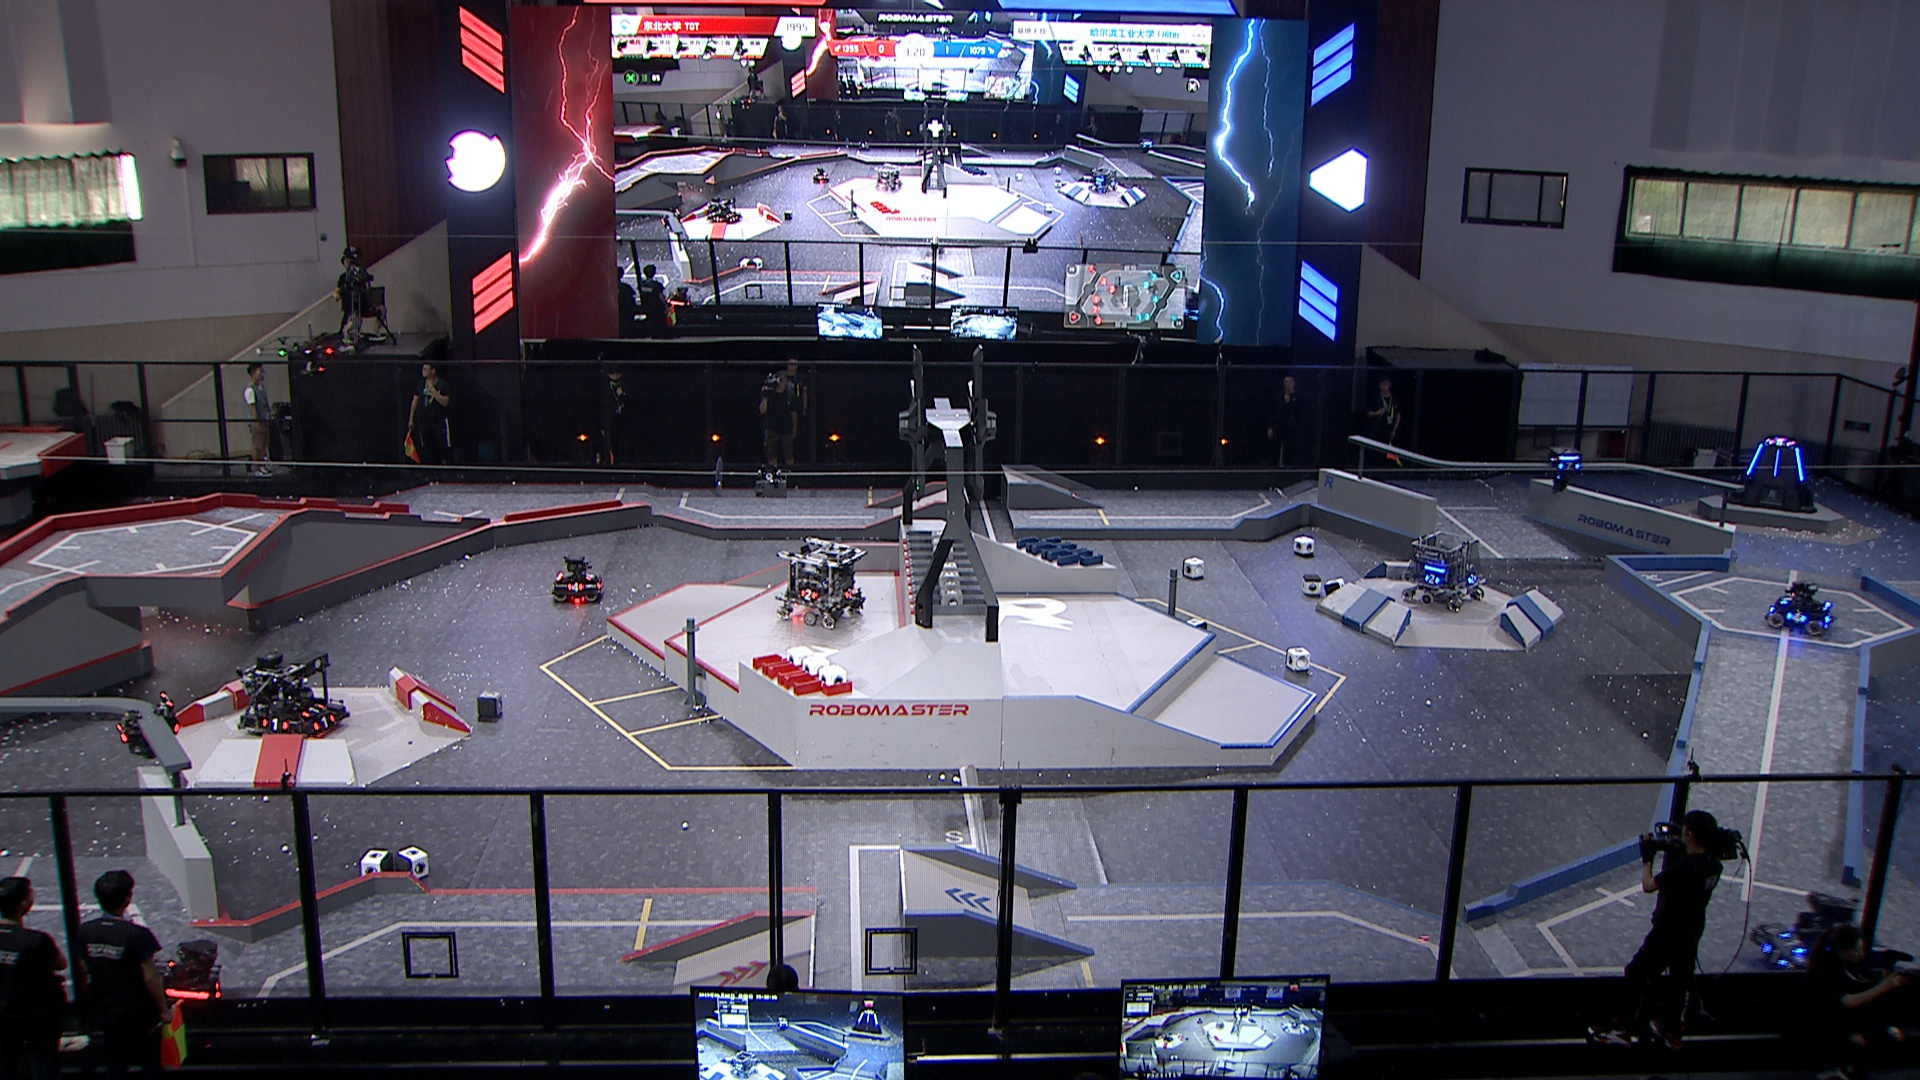armor: (1760, 940, 1788, 969), (1780, 926, 1807, 956), (1746, 438, 1764, 476), (1789, 446, 1807, 484), (310, 709, 338, 732), (258, 716, 290, 735), (113, 719, 135, 745), (301, 699, 328, 719), (1555, 458, 1582, 473), (1771, 443, 1783, 477), (1784, 609, 1807, 626), (1423, 568, 1444, 585), (1776, 588, 1793, 607), (582, 567, 597, 584), (800, 589, 820, 603), (840, 584, 856, 599), (1465, 570, 1480, 585), (564, 583, 585, 593)
base: (1727, 433, 1818, 514)
car: (1745, 885, 1869, 981), (115, 939, 229, 1036), (233, 655, 353, 737), (771, 533, 866, 632), (1400, 526, 1486, 613), (1762, 579, 1837, 636), (549, 553, 608, 604)
ignore: (704, 196, 744, 225), (1087, 167, 1121, 195), (873, 162, 899, 194), (1768, 436, 1795, 450), (1138, 136, 1155, 156)
watcher: (111, 688, 183, 770), (1542, 446, 1586, 496)
